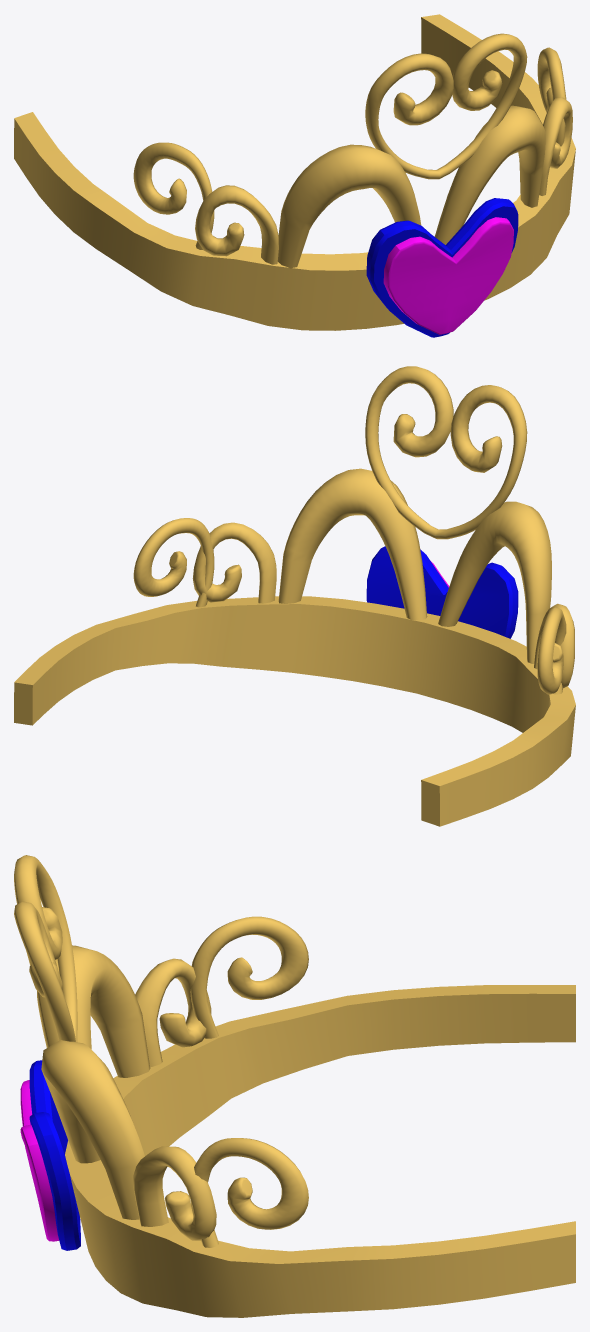
File: crown2.fbx
The picture shows the model from 3 angles, top to bottom: view 1: azimuth 30°, elevation 25°; view 2: azimuth 150°, elevation 25°; view 3: azimuth 270°, elevation 25°; orthographic projection. The views are drawn at different scales.
Parts seen in each view (by area): view 1: crown2; view 2: crown2; view 3: crown2.
Boxes of the visible parts, x1=… form: crown2: x1=14, y1=14, x2=575, y2=337; crown2: x1=14, y1=366, x2=575, y2=826; crown2: x1=14, y1=855, x2=575, y2=1317.
Size of the model in its own units: 0.3283 by 0.2073 by 0.2901.
2 materials, 1 textured.
